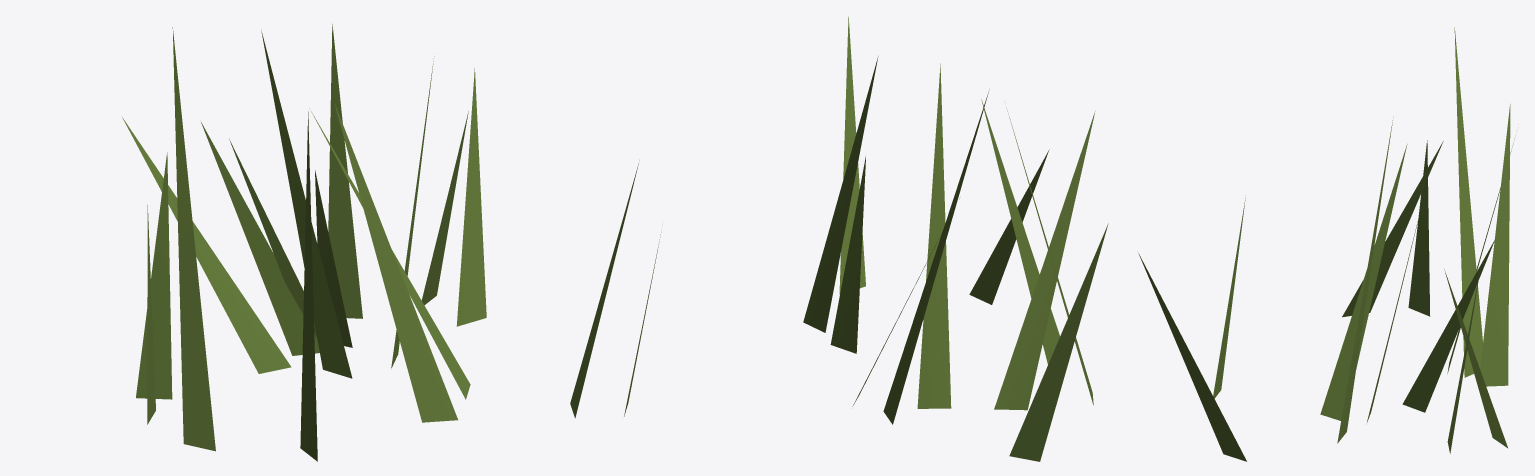
File: tr-grass.glb
3 renders of one model, left to right at view 1: azimuth 30°, elevation 25°; view 2: azimuth 150°, elevation 25°; view 3: azimuth 270°, elevation 25°, orthographic. The views are drawn at different scales.
Parts seen in each view (by area): view 1: tr-grass; view 2: tr-grass; view 3: tr-grass.
Part boxes in pixels (x1,y1,x2,y2): tr-grass: [122, 24, 661, 461]; tr-grass: [803, 16, 1108, 461]; tr-grass: [1138, 27, 1514, 461].
Size of the model in its own units: 0.7375 by 0.5991 by 0.6349.
